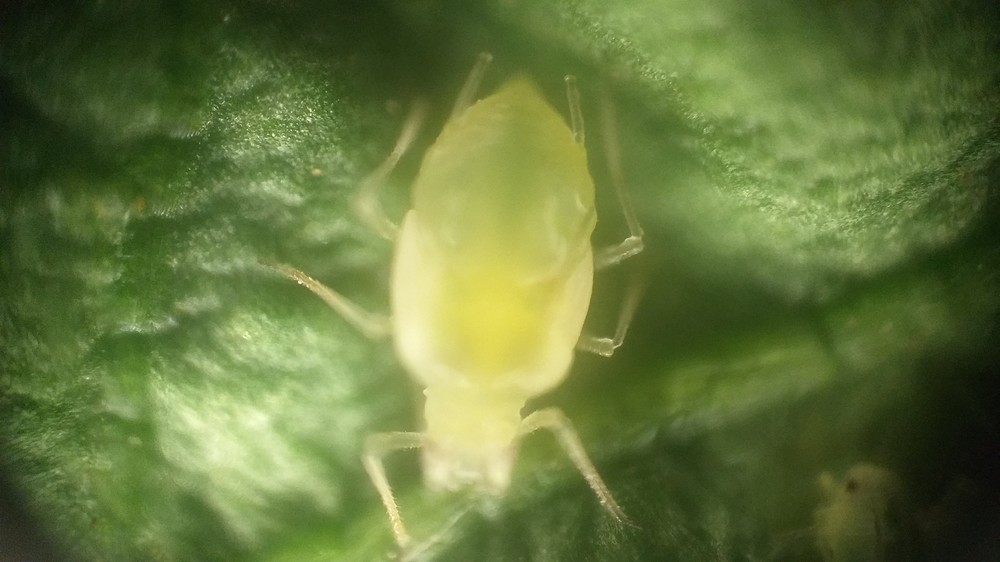Pulgon: (287, 41, 677, 550)
